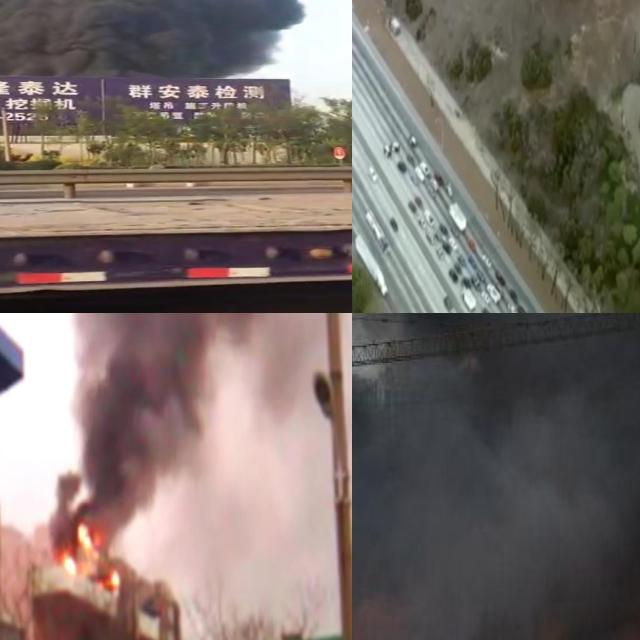fire: (59, 524, 116, 588)
smoke: (352, 313, 640, 640), (47, 313, 339, 534), (0, 0, 301, 79)
